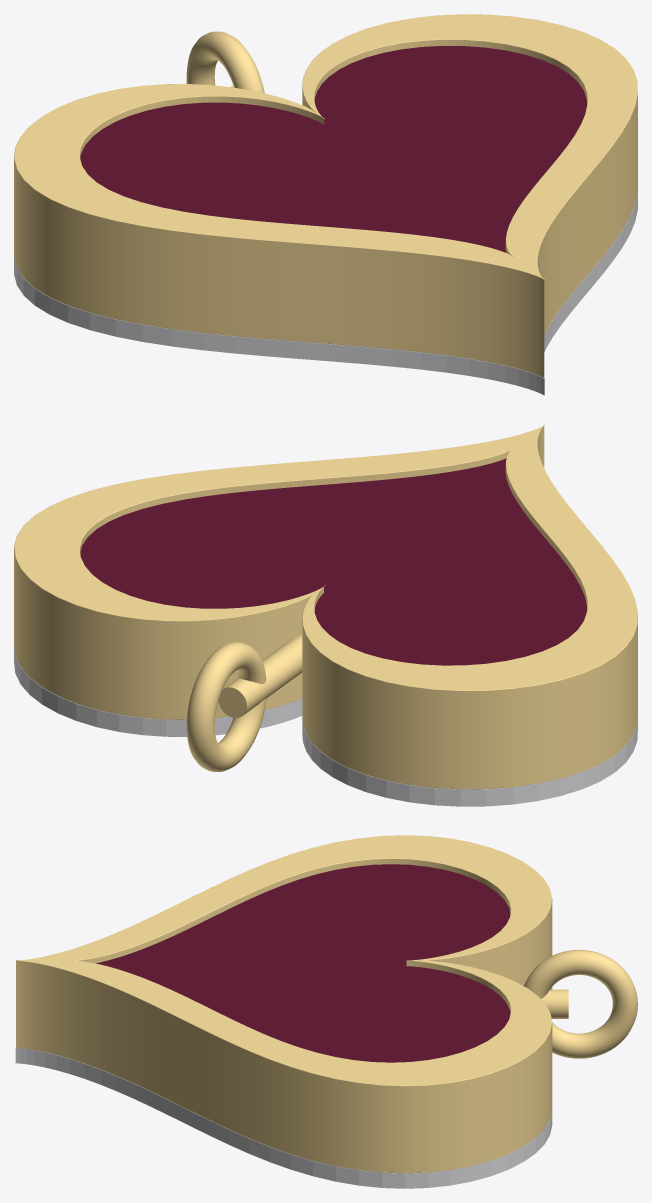
File: medaillon-Dbg45us8.glb
The picture shows the model from 3 angles, top to bottom: view 1: azimuth 30°, elevation 25°; view 2: azimuth 150°, elevation 25°; view 3: azimuth 270°, elevation 25°; orthographic projection. The views are drawn at different scales.
Visible parts, largest first — view 1: Medaillon; view 2: Medaillon; view 3: Medaillon.
Part boxes in pixels (left/top/right/bottom): Medaillon: left=14, top=14, right=637, bottom=395; Medaillon: left=14, top=425, right=637, bottom=806; Medaillon: left=15, top=835, right=637, bottom=1188.
Bounding box in the file's own units: 0.0282 × 0.0059 × 0.0297.
